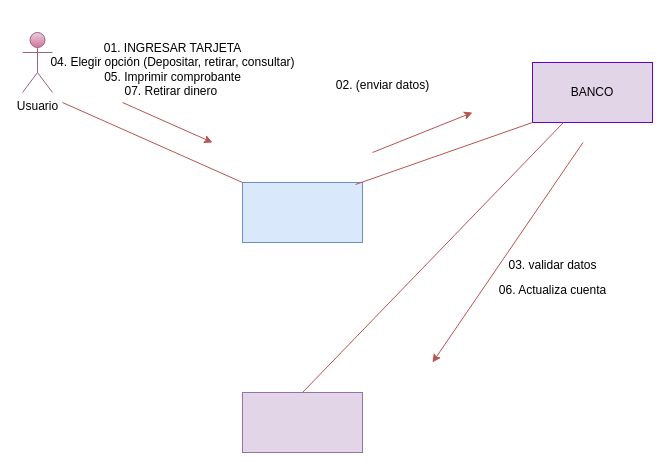
Image size: 670x470. Some labels were removed from this diagram. The centre of each missing label's shape, as x and y in pixels:
"CAJERO" belongs at (x=302, y=212).
"SISTEMA" belongs at (x=302, y=422).
